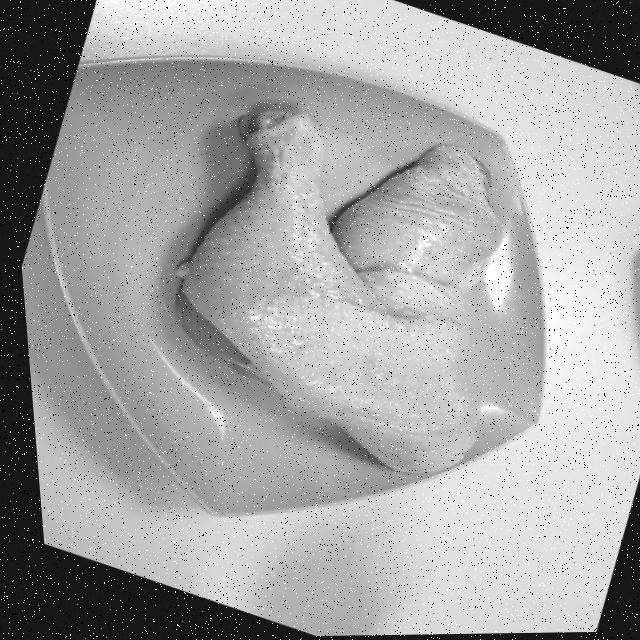quater: (197, 99, 449, 464), (336, 130, 474, 352)
